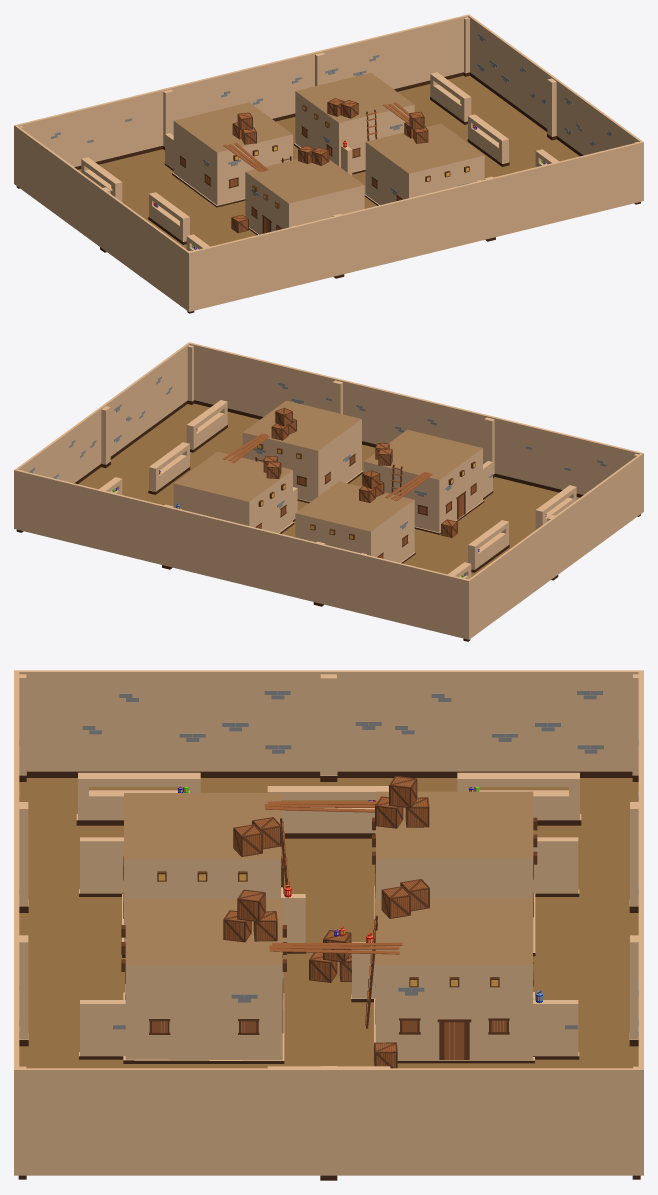
File: arena.glb
The picture shows the model from 3 angles, top to bottom: view 1: azimuth 30°, elevation 25°; view 2: azimuth 150°, elevation 25°; view 3: azimuth 270°, elevation 25°; orthographic projection. The views are drawn at different scales.
Parts seen in each view (by area): view 1: Plane.001, Plane, Cube.006, Cube.070, Cube.102, Cube.038, Cube, Cube.001, Cube.003, Cube.005, Cube.113, Cube.082; view 2: Plane.001, Plane, Cube.038, Cube.070, Cube.102, Cube.006, Cube, Cube.002, Cube.003, Cube.004, Cube.113, Cube.049; view 3: Plane.001, Plane, Cube.070, Cube.102, Cube.006, Cube.038, Cube.003, Cube.004, Cube.005, Cube.150, Cube.148, Cube.149 (+17 smaller).
Boxes of the visible parts, <box> form: Plane.001: <box>14,14,643,311</box>; Plane: <box>78,75,579,249</box>; Cube.006: <box>172,102,292,207</box>; Cube.070: <box>364,123,484,205</box>; Cube.102: <box>294,73,414,174</box>; Cube.038: <box>245,159,364,235</box>; Cube: <box>467,114,509,166</box>; Cube.001: <box>430,72,471,124</box>; Cube.003: <box>148,192,189,244</box>; Cube.005: <box>81,157,122,201</box>; Cube.113: <box>547,78,556,140</box>; Cube.082: <box>163,89,173,149</box>; Plane.001: <box>14,342,643,639</box>; Plane: <box>78,403,579,576</box>; Cube.038: <box>363,429,484,534</box>; Cube.070: <box>242,400,363,503</box>; Cube.102: <box>173,451,294,533</box>; Cube.006: <box>295,481,415,563</box>; Cube: <box>148,442,190,494</box>; Cube.002: <box>186,400,227,452</box>; Cube.003: <box>468,520,509,572</box>; Cube.004: <box>535,485,576,529</box>; Cube.113: <box>101,406,110,467</box>; Cube.049: <box>484,417,494,477</box>; Plane.001: <box>14,670,643,1175</box>; Plane: <box>19,778,638,1068</box>; Cube.070: <box>123,899,284,1063</box>; Cube.102: <box>374,898,534,1063</box>; Cube.006: <box>374,791,535,956</box>; Cube.038: <box>122,793,282,957</box>; Cube.003: <box>267,786,388,838</box>; Cube.004: <box>76,772,200,825</box>; Cube.005: <box>457,772,581,825</box>; Cube.150: <box>79,1000,125,1059</box>; Cube.148: <box>533,1000,579,1059</box>; Cube.149: <box>533,837,579,896</box>.
Bounding box in the file's own units: 25 × 4.21 × 16.65.
